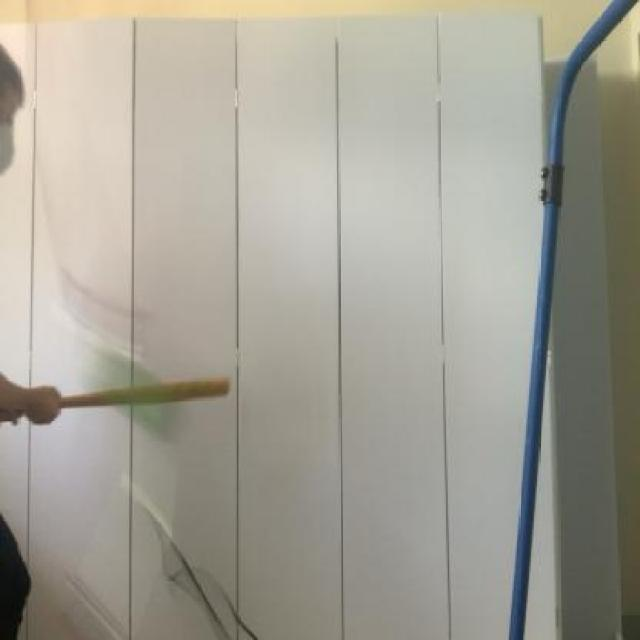baseball: (72, 344, 188, 441)
